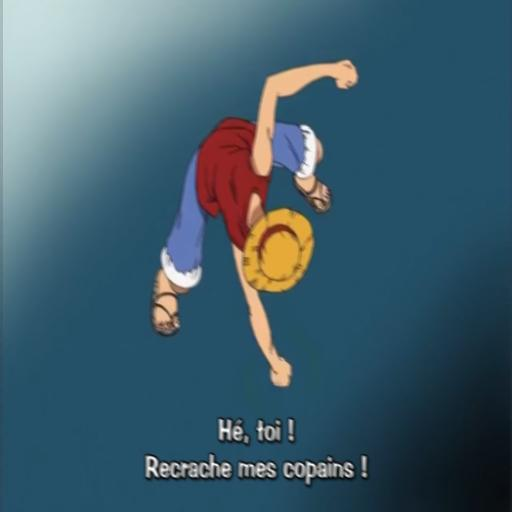Luffy: (133, 37, 376, 396)
